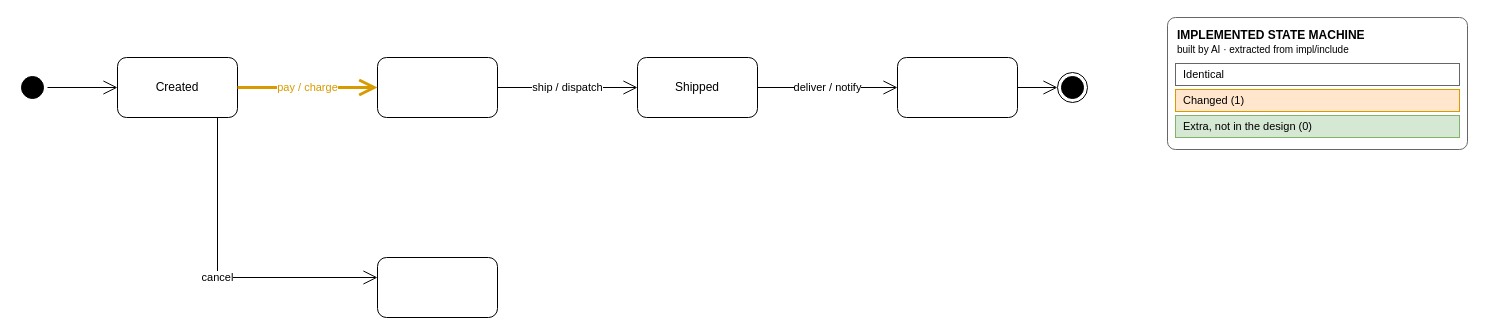
Some shapes in this 1485 by 335 pixel diagram are drawn without their labels. The centre of each missing label's shape, as x and y in pixels:
Cancelled: (437,287)
Delivered: (957,87)
Paid: (437,87)
